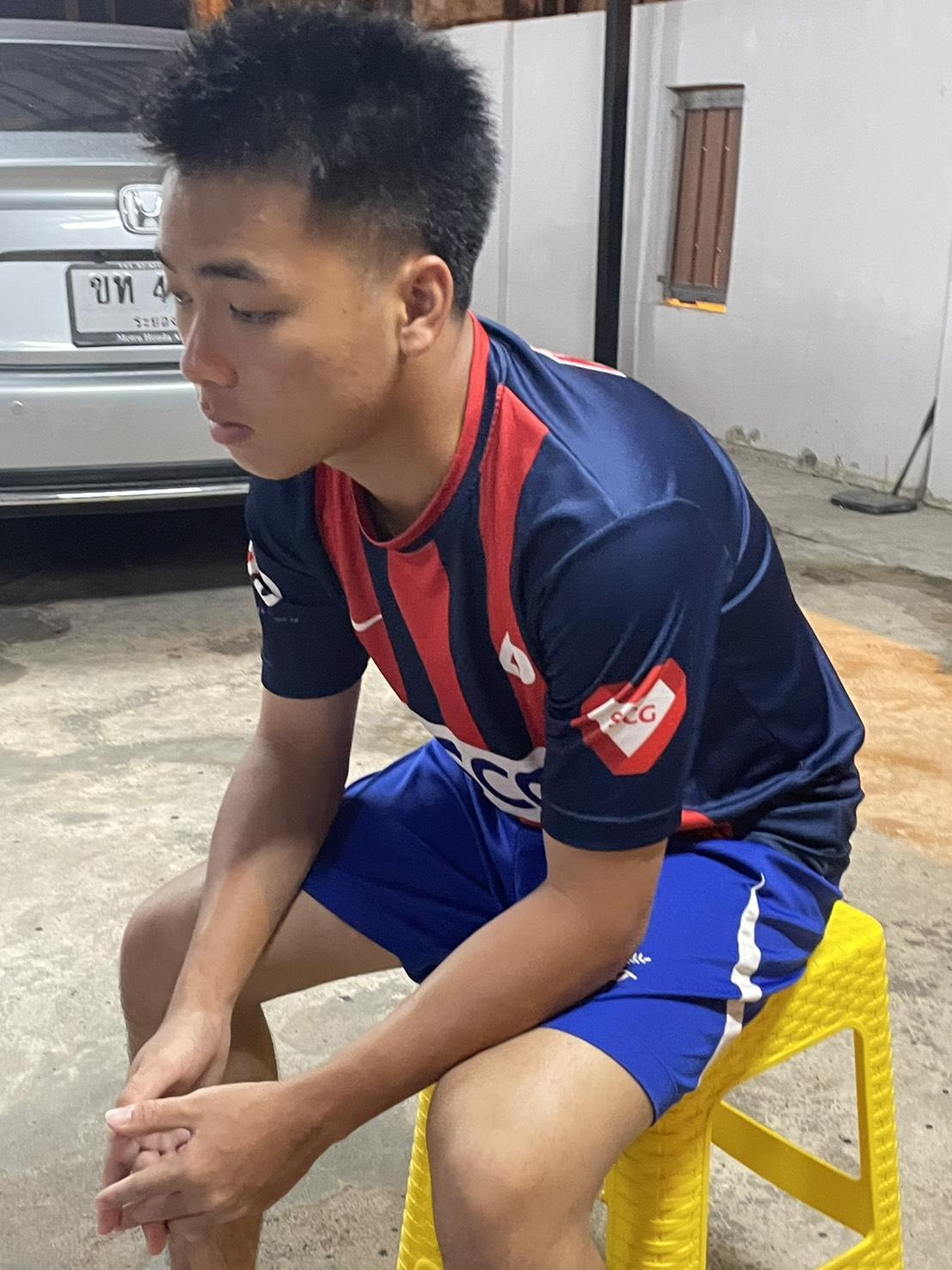BadPosture: (133, 9, 857, 883)
